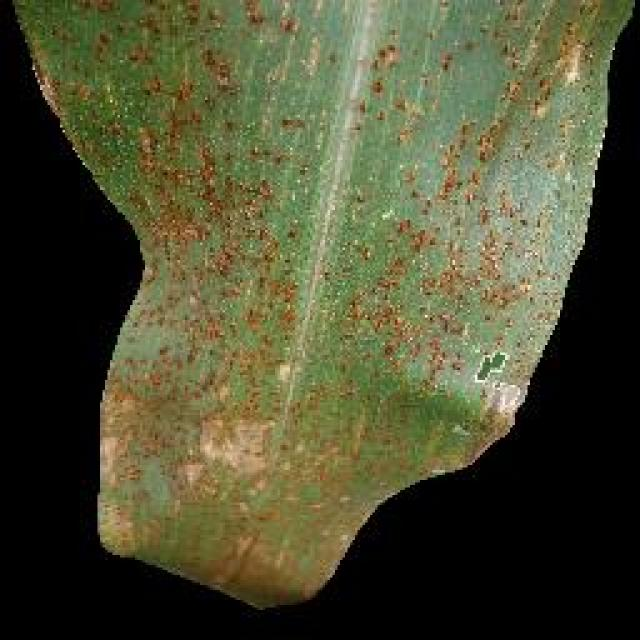Corn___Common_rust: (5, 0, 633, 638)
